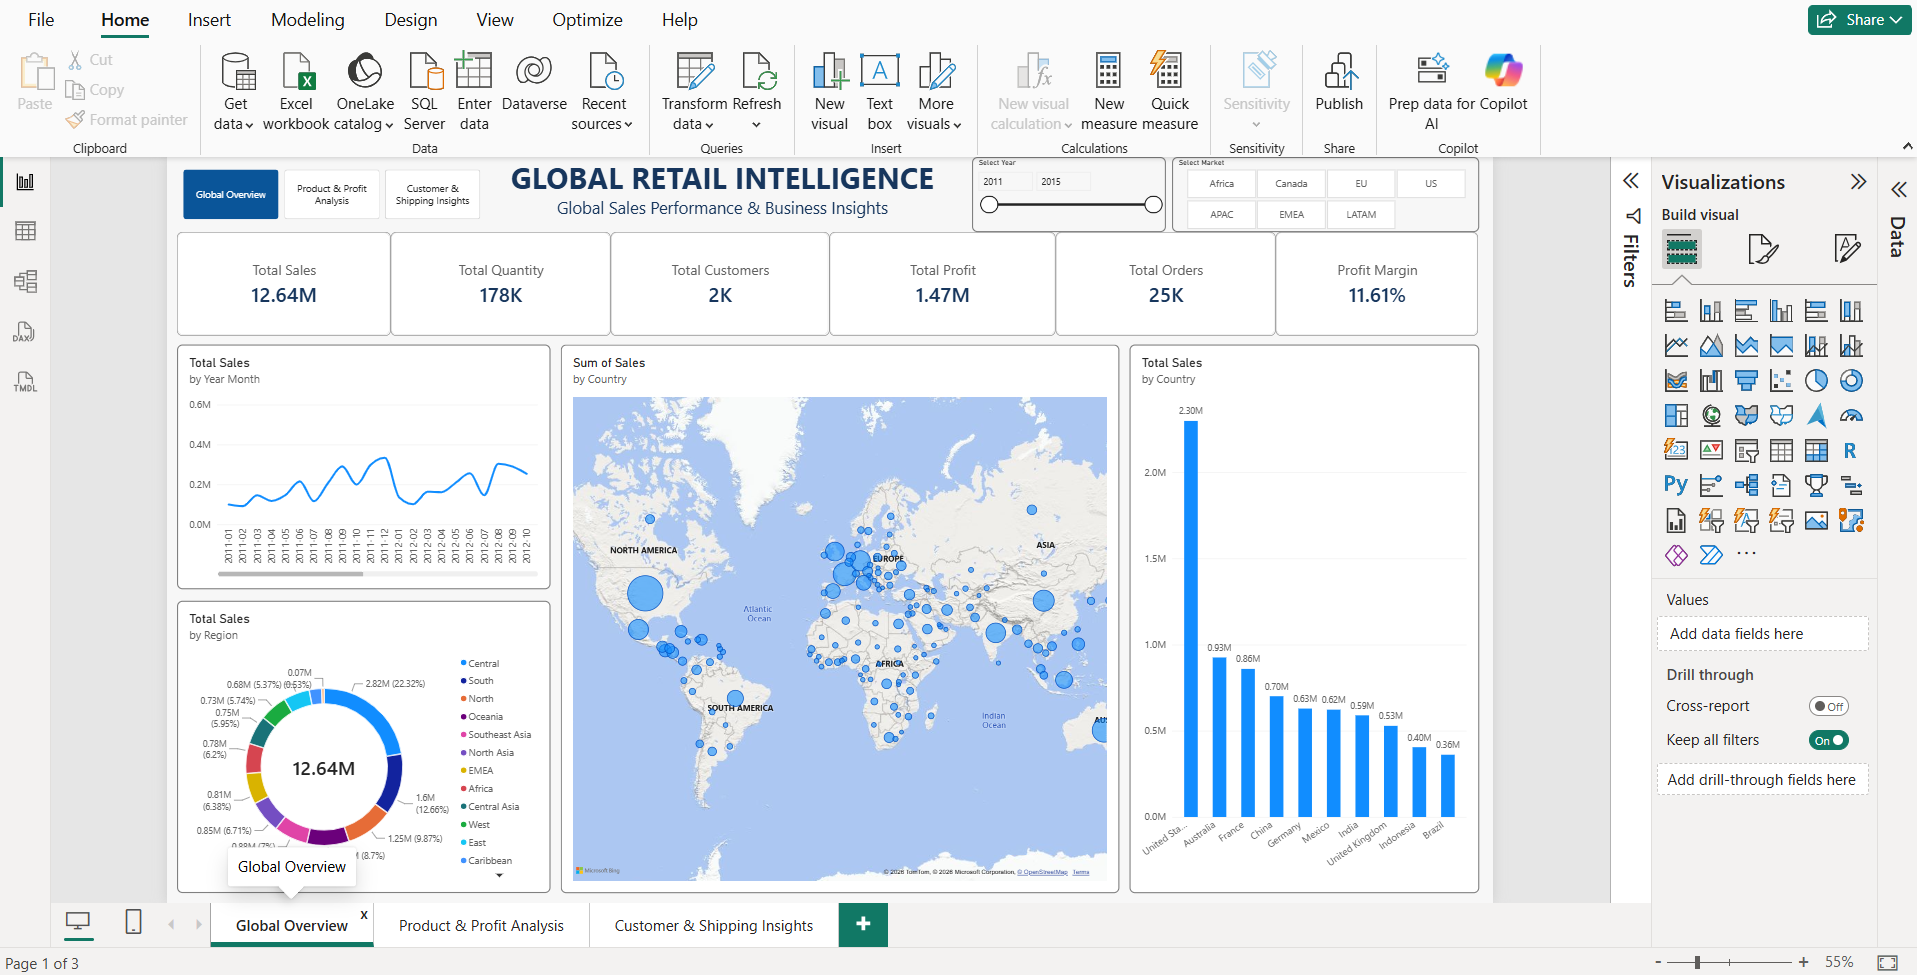

What the dashboard file says about the page in this screenshot:
{"tool":"powerbi","page":{"name":"Global Overview","canvas":[1920,1080],"ordinal":0},"visuals":[{"type":"textbox","box":[454.2,0,699.8,109.1],"z":0},{"type":"cardVisual","fields":{"Data":["Orders.Total Sales"]},"box":[14.5,108.6,309.5,150.2],"z":1},{"type":"cardVisual","fields":{"Data":["Orders.Total Orders"]},"box":[1286.7,108.6,318.5,150.2],"z":2},{"type":"cardVisual","fields":{"Data":["Orders.Total Profit"]},"box":[959.1,108.6,327.5,150.2],"z":3},{"type":"cardVisual","fields":{"Data":["Orders.Total Customers"]},"box":[642.4,108.6,316.7,150.2],"z":4},{"type":"cardVisual","fields":{"Data":["Orders.Total Quantity"]},"box":[323.9,108.6,318.5,150.2],"z":5},{"type":"cardVisual","fields":{"Data":["Orders.Profit Margin"]},"box":[1605.2,108.6,293.2,150.2],"z":6},{"type":"map","fields":{"Category":["Orders.Country"],"Size":["Sum(Orders.Sales)"]},"box":[570,271.4,808.9,794.4],"z":7},{"type":"lineChart","fields":{"Category":["DateTable.Year Month"],"Y":["Orders.Total Sales"]},"box":[14.5,271.4,541.1,354.7],"z":8},{"type":"columnChart","fields":{"Category":["Orders.Country"],"Y":["Orders.Total Sales"]},"box":[1393.4,271.4,506.7,794.4],"z":9},{"type":"donutChart","fields":{"Category":["Orders.Region"],"Y":["Orders.Total Sales"]},"box":[14.5,642.4,541.1,423.5],"z":10},{"type":"slicer","fields":{"Values":["DateTable.Year"]},"box":[1165.4,0,280.5,108.6],"z":11},{"type":"slicer","fields":{"Values":["Orders.Market"]},"box":[1455,0,445.2,108.6],"z":12},{"type":"pageNavigator","box":[23.5,18.1,430.7,72.4],"z":13}]}

Visuals, with their boxes on the page's 1920x1080 design canvas (x1, y1, x2, y2). These are canvas units, not pixel positions in the 1917x975 screenshot, which may show the page scaled, cropped or inside an application window:
textbox: (454,0,1154,109)
cardVisual - Orders.Total Sales: (14,109,324,259)
cardVisual - Orders.Total Orders: (1287,109,1605,259)
cardVisual - Orders.Total Profit: (959,109,1287,259)
cardVisual - Orders.Total Customers: (642,109,959,259)
cardVisual - Orders.Total Quantity: (324,109,642,259)
cardVisual - Orders.Profit Margin: (1605,109,1898,259)
map - Orders.Country x Sum(Orders.Sales): (570,271,1379,1066)
lineChart - DateTable.Year Month x Orders.Total Sales: (14,271,556,626)
columnChart - Orders.Country x Orders.Total Sales: (1393,271,1900,1066)
donutChart - Orders.Region x Orders.Total Sales: (14,642,556,1066)
slicer - DateTable.Year: (1165,0,1446,109)
slicer - Orders.Market: (1455,0,1900,109)
pageNavigator: (24,18,454,90)
